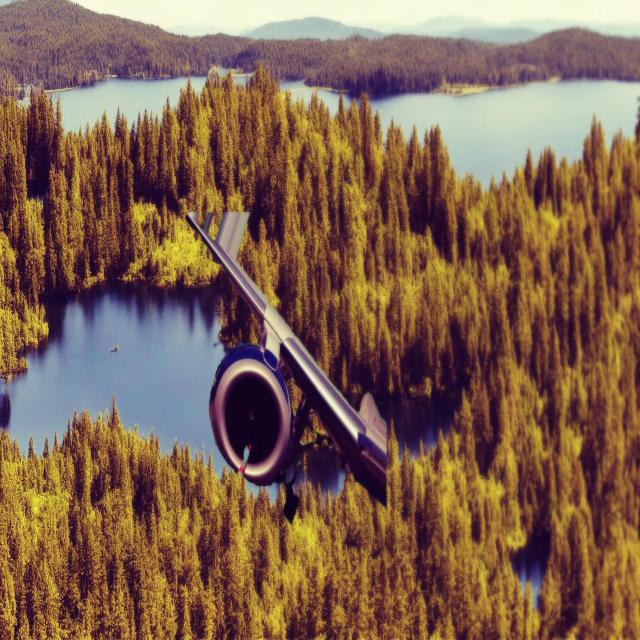airplane: (184, 208, 388, 524)
